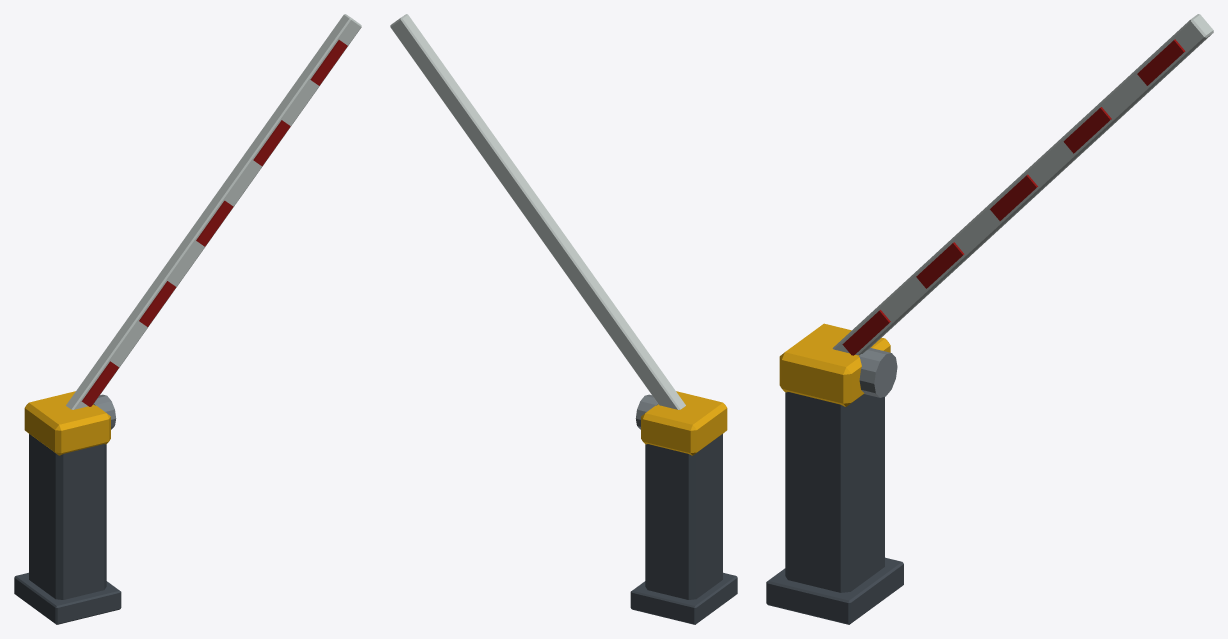
Rendered from BarrierGateRaised.fbx.
The picture shows the model from 3 angles, left to right: view 1: azimuth 30°, elevation 25°; view 2: azimuth 150°, elevation 25°; view 3: azimuth 330°, elevation 25°; orthographic projection. The views are drawn at different scales.
Visible parts, largest first — view 1: BarrierGateRaised; view 2: BarrierGateRaised; view 3: BarrierGateRaised.
Boxes of the visible parts, x1=… form: BarrierGateRaised: x1=14, y1=14, x2=361, y2=624; BarrierGateRaised: x1=390, y1=14, x2=737, y2=624; BarrierGateRaised: x1=766, y1=14, x2=1213, y2=624.
Bounding box in the file's own units: 197 × 301 × 45.
1 material, 1 textured.
